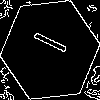I: (25, 25, 68, 56)
